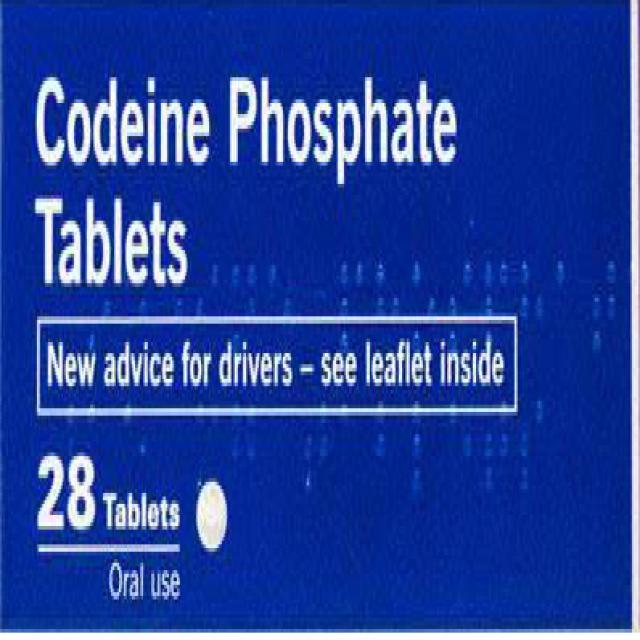drug-name: (32, 62, 460, 195)
